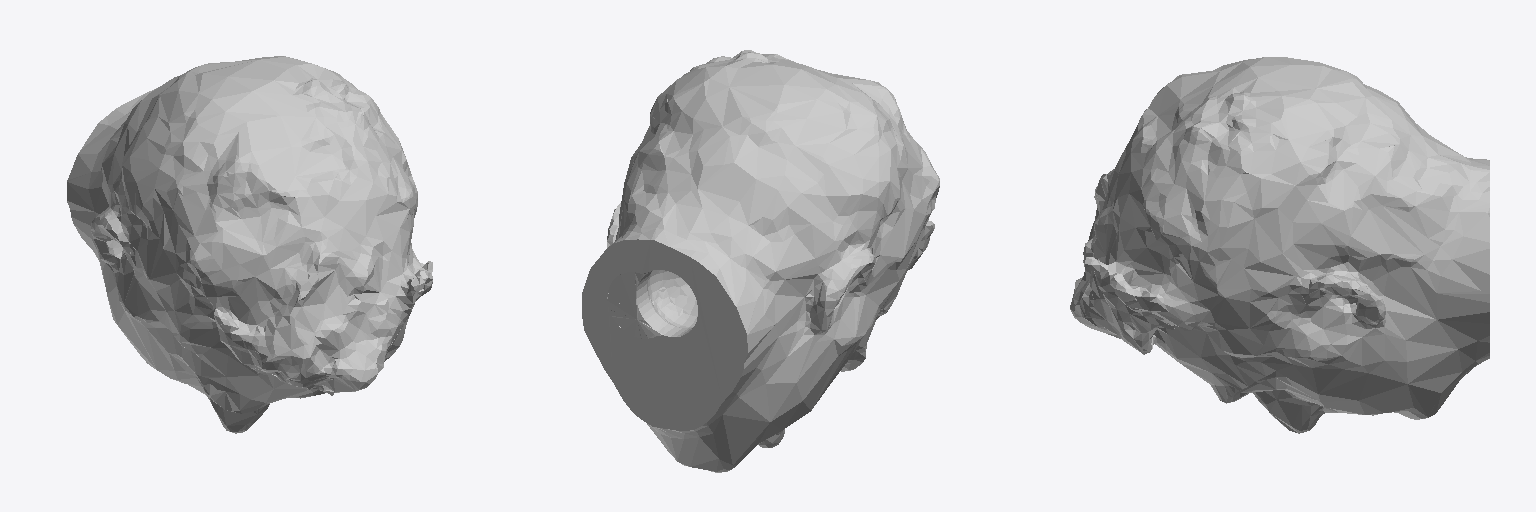
Rendered from 38157-face_Clustering_90pct.obj.
3 views of the same model, side by side, from view 1: azimuth 30°, elevation 25°; view 2: azimuth 150°, elevation 25°; view 3: azimuth 270°, elevation 25° (orthographic).
Bounding box in the file's own units: 0.7037 × 0.957 × 1.